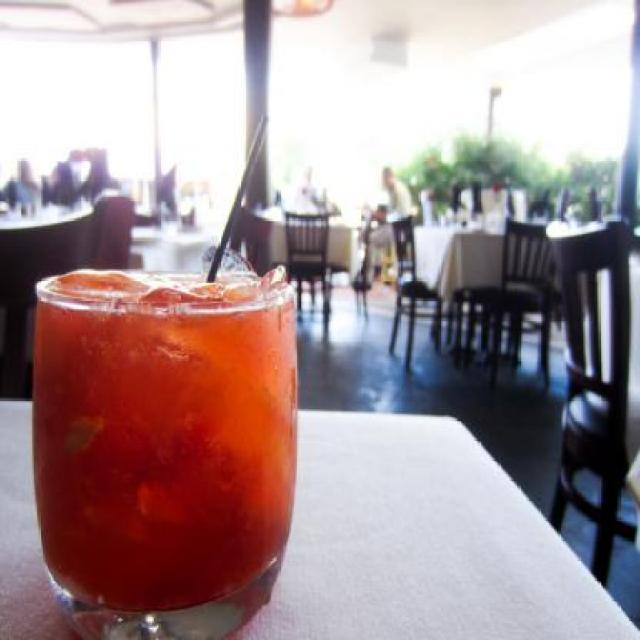Juice: (25, 258, 301, 622)
